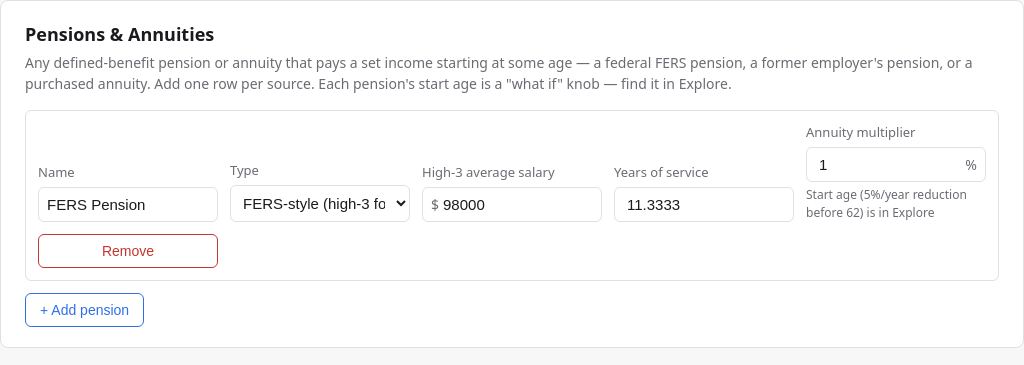
Scenario: PensionsSection › switches to the fixed-amount fields when the type is changed
Select "Fixed amount" in the dropdown at (320, 203), box [230, 184, 410, 222]
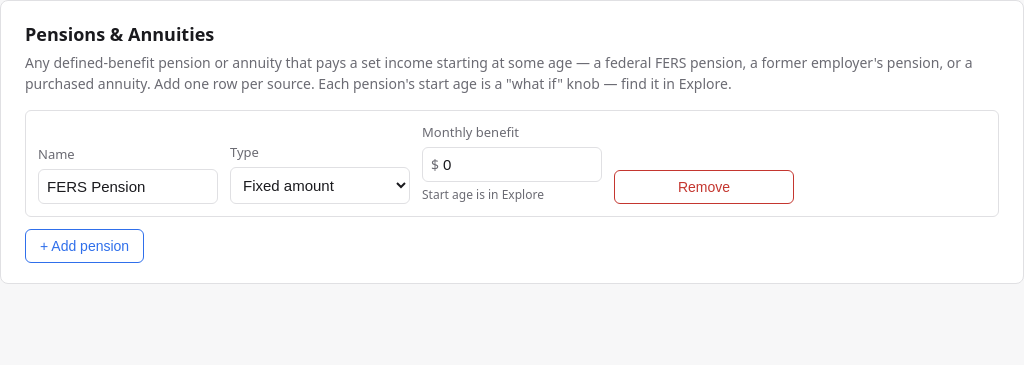
Check: the number field labelled "Monthly benefit $ Start age is in Explore" is shown, box [439, 148, 593, 180]
Check: the text labelled "High-3 average salary" is gone
